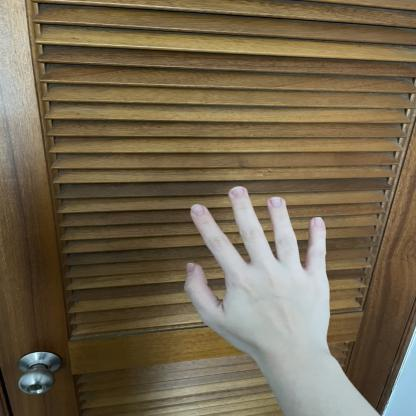bare_hand: (178, 180, 340, 358)
